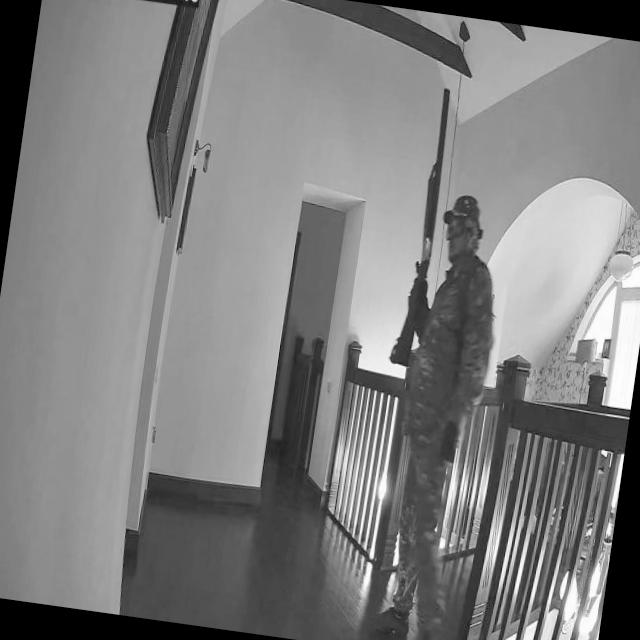gun: (390, 82, 454, 368)
person with a gun: (349, 82, 526, 640)
